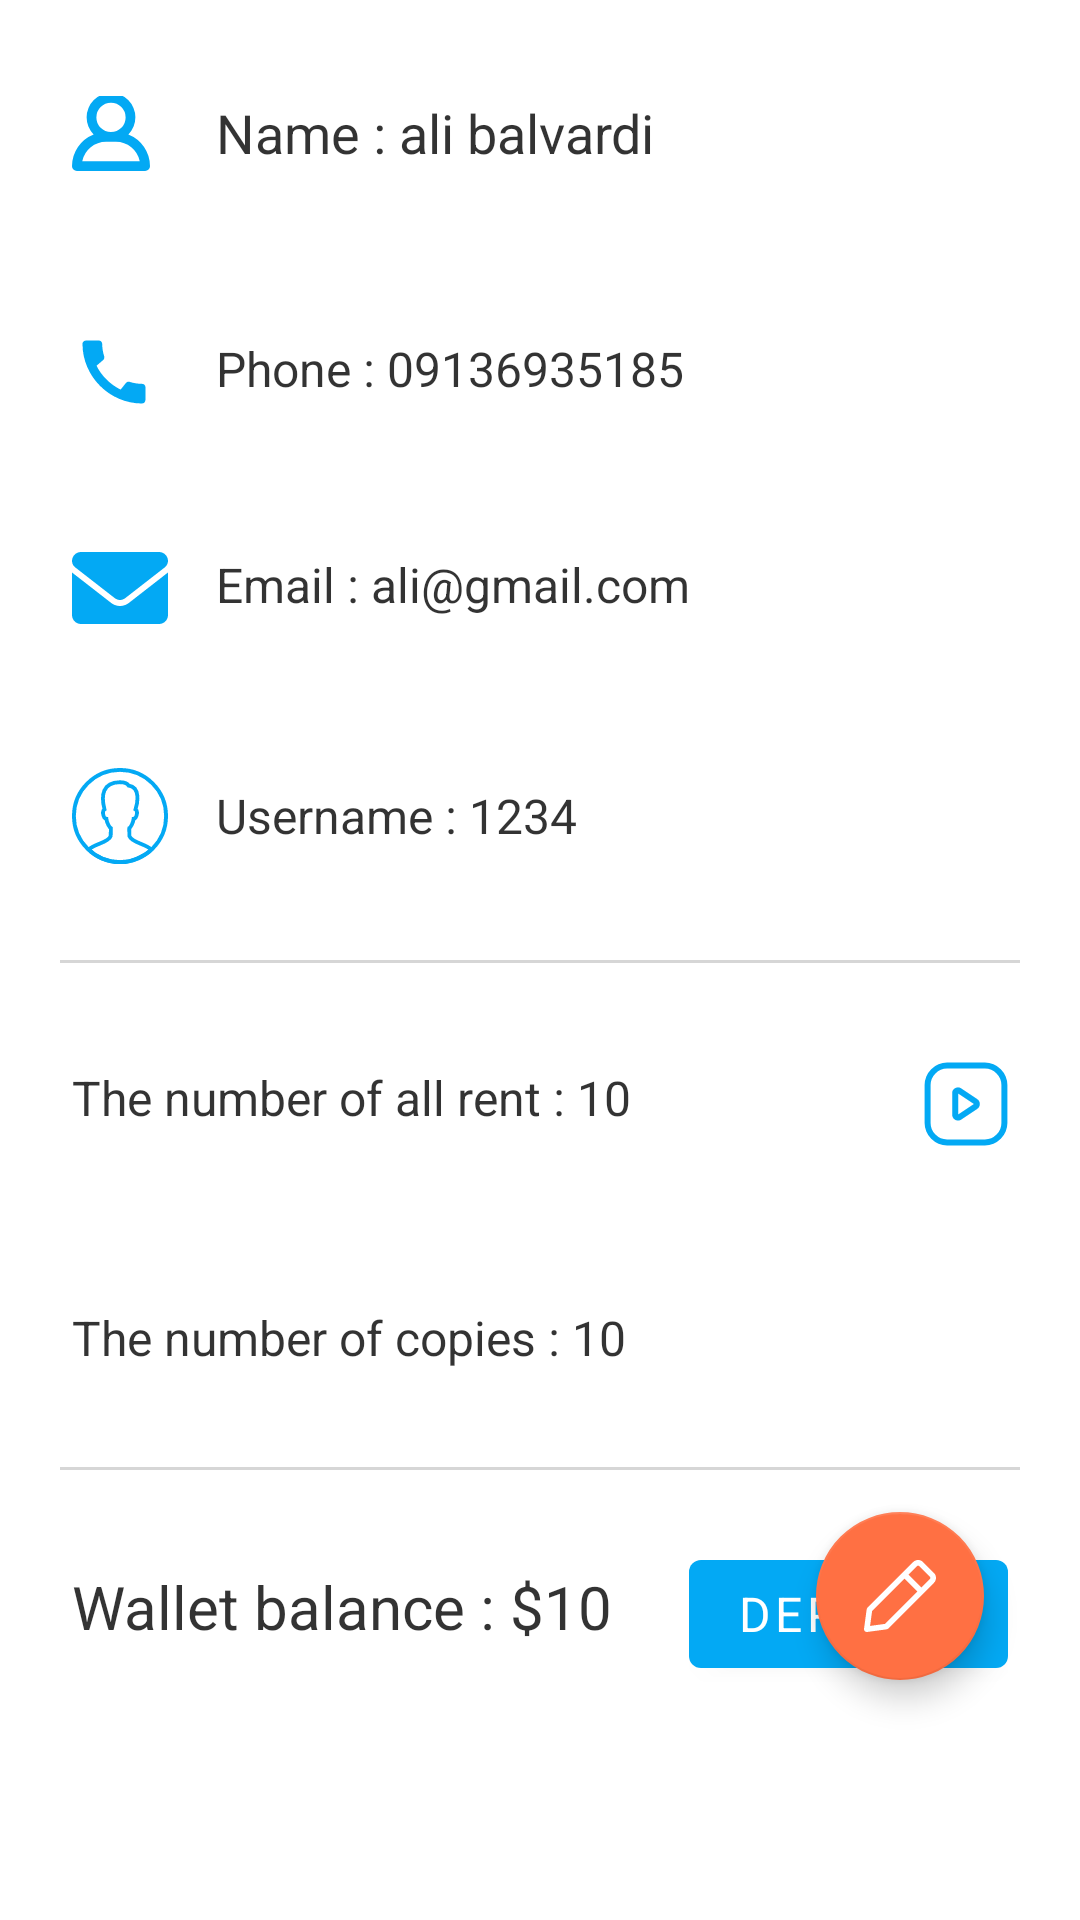

Where to tap for icons on this 1080*1920 app screen, as [x,y]:
call: [114,372]
video: [966,1104]
